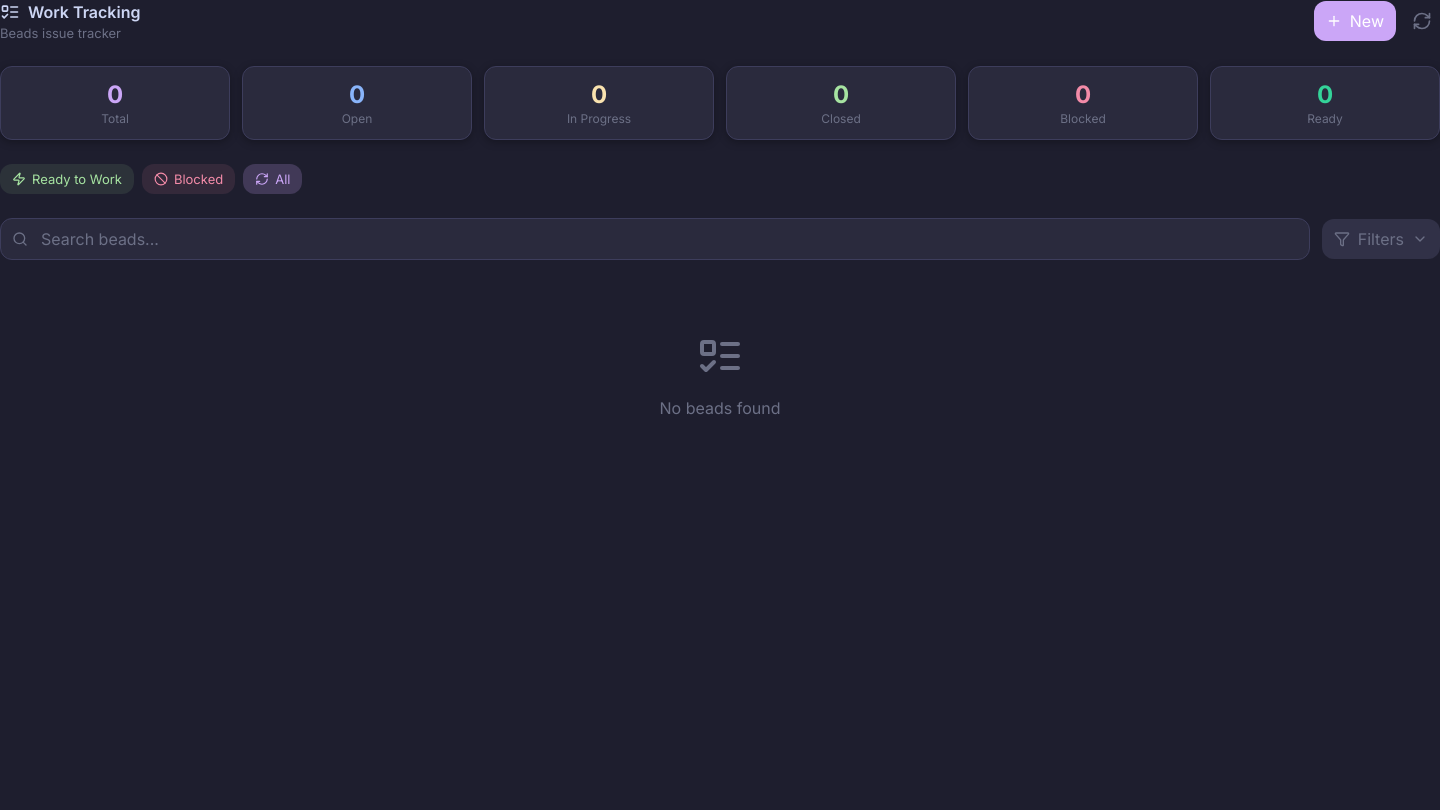
Scenario: BeadsPanel › validates title is required for create
Note: Open modal
Click the button "New" at (1355, 21), box [1314, 1, 1396, 41]
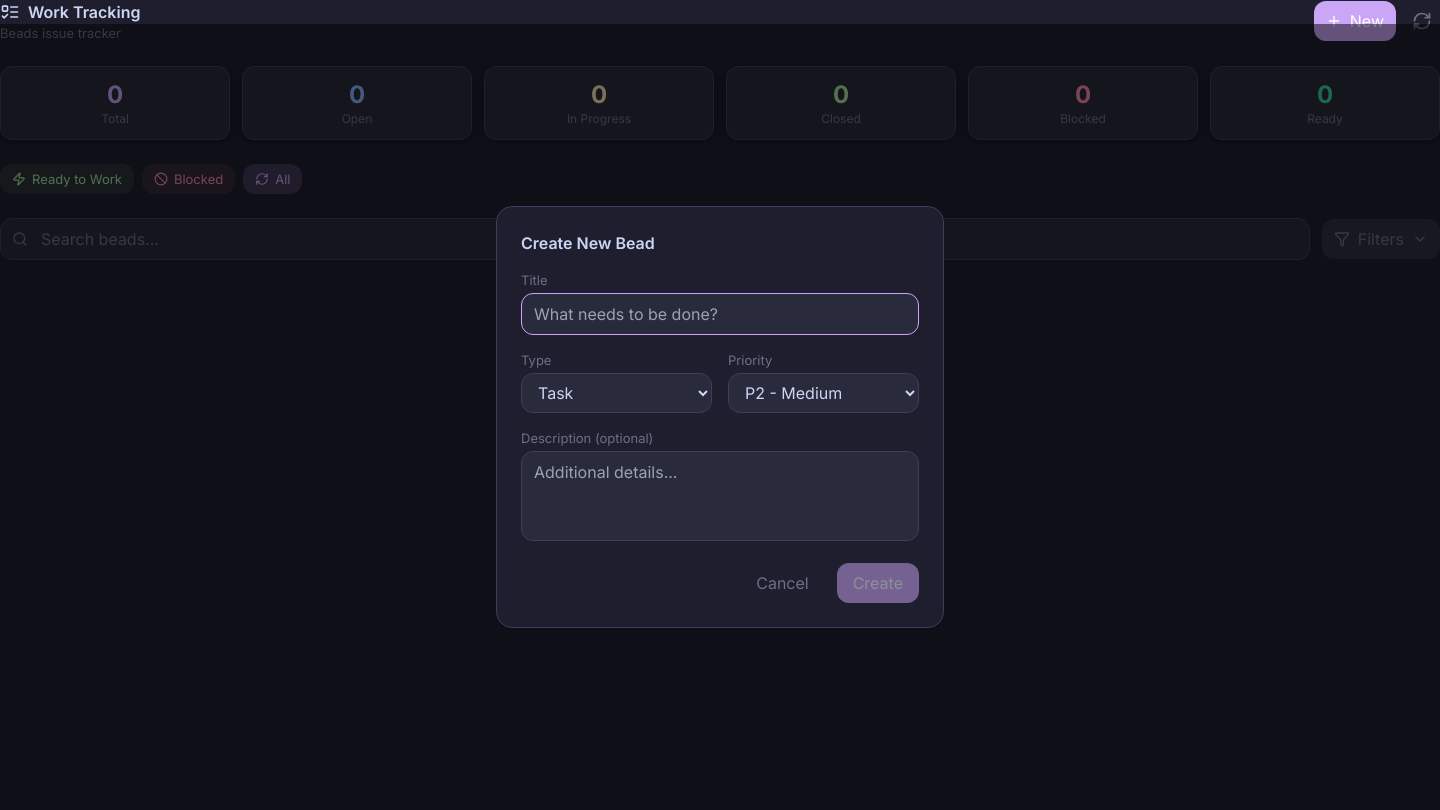
Expected: the button "Create" is disabled, [837, 563, 919, 603]
Note: Enter title
Type "Task title" into the field with placeholder "What needs to be done?" at (720, 314), box [521, 293, 919, 335]
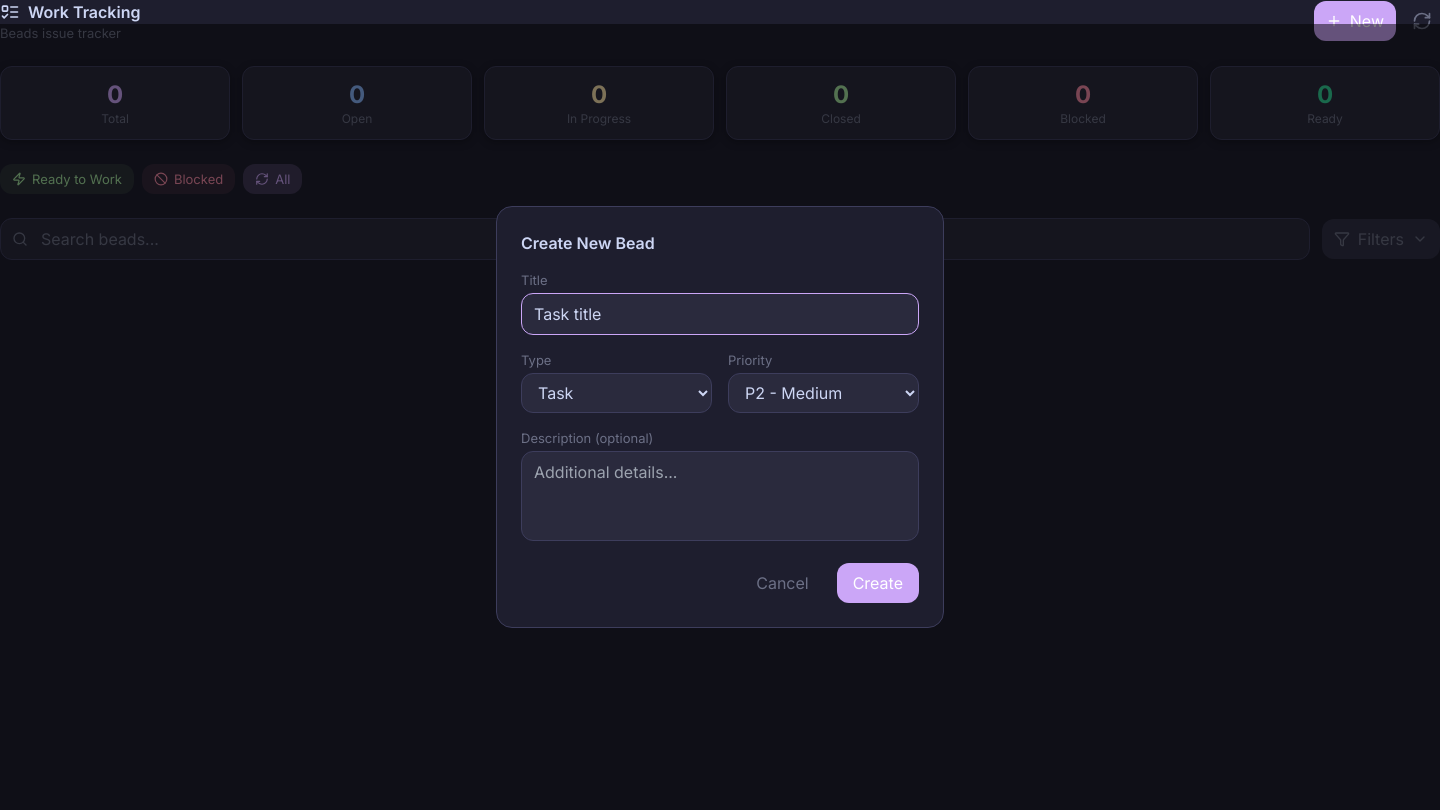
Expected: the button "Create" is enabled, [837, 563, 919, 603]
